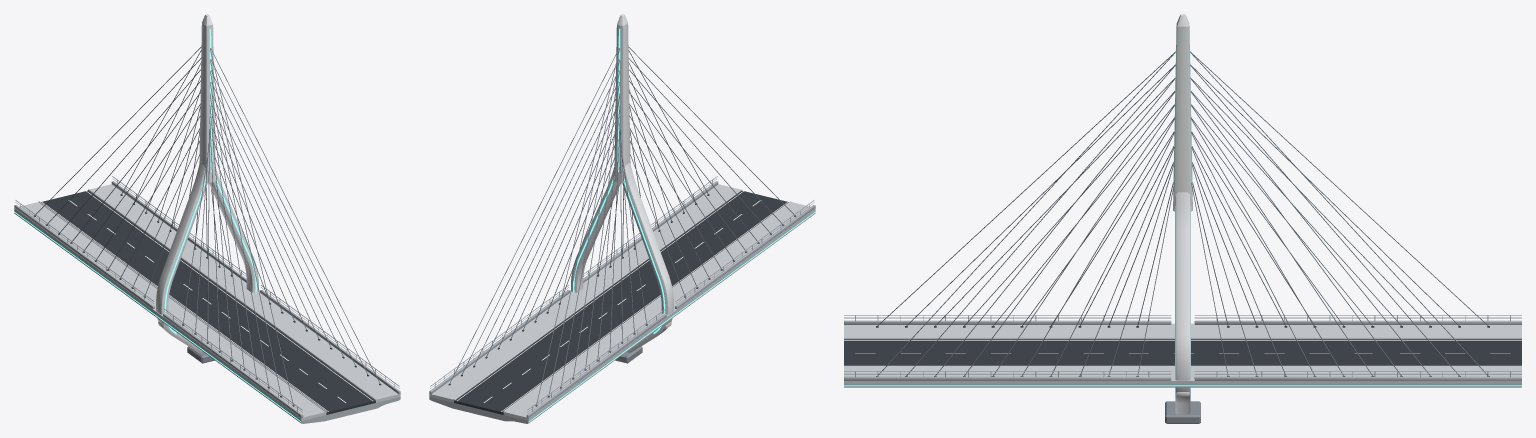
File: ponte_estaiada_agulha.glb
The picture shows the model from 3 angles, left to right: view 1: azimuth 30°, elevation 25°; view 2: azimuth 150°, elevation 25°; view 3: azimuth 270°, elevation 25°; orthographic projection. The views are drawn at different scales.
Visible parts, largest first — view 1: ponte_estaiada_agulha; view 2: ponte_estaiada_agulha; view 3: ponte_estaiada_agulha.
Boxes of the visible parts, x1,y1,x2,y2 form: ponte_estaiada_agulha: (14,14,400,423); ponte_estaiada_agulha: (429,14,815,423); ponte_estaiada_agulha: (844,14,1521,423).
Bounding box in the file's own units: 15 × 49.1 × 75.
2 materials, 1 textured.
